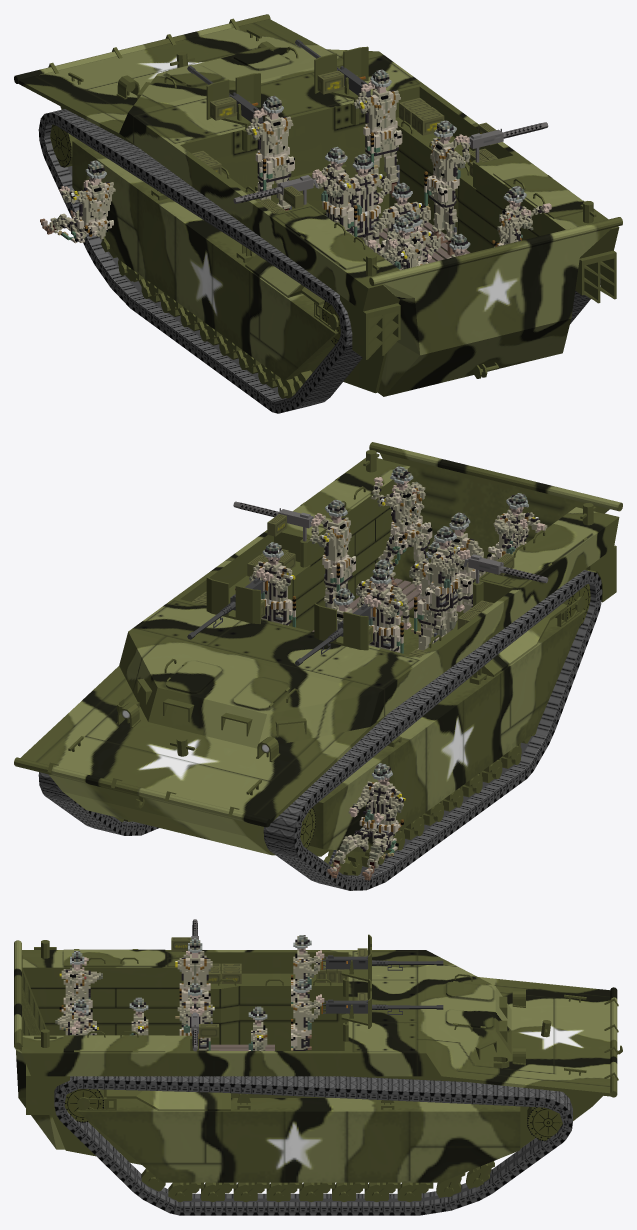
Rendered from lvt4.glb.
The picture shows the model from 3 angles, top to bottom: view 1: azimuth 30°, elevation 25°; view 2: azimuth 150°, elevation 25°; view 3: azimuth 270°, elevation 25°; orthographic projection. The views are drawn at different scales.
Parts seen in each view (by area): view 1: 00_chassis_lvt_4_chassis.mesh, 11_track_lvt_4_track.mesh, crew_soldier_SLOT_04_GUNNER, crew_soldier_SLOT_02_GUNNER, crew_soldier_SLOT_01_GUNNER, crew_soldier_SLOT_00_DRIVER, 06_turret_lvt_4_m2.mesh, 07_turret_lvt_4_m2.mesh, crew_soldier_SLOT_03_GUNNER, crew_soldier_SLOT_10_PASSENGER, crew_soldier_SLOT_06_PASSENGER, crew_soldier_SLOT_05_PASSENGER (+4 smaller); view 2: 00_chassis_lvt_4_chassis.mesh, 11_track_lvt_4_track.mesh, crew_soldier_SLOT_00_DRIVER, crew_soldier_SLOT_06_PASSENGER, crew_soldier_SLOT_03_GUNNER, crew_soldier_SLOT_04_GUNNER, 07_turret_lvt_4_m2.mesh, 06_turret_lvt_4_m2.mesh, crew_soldier_SLOT_01_GUNNER, crew_soldier_SLOT_02_GUNNER, crew_soldier_SLOT_05_PASSENGER, 10_track_lvt_4_track.mesh (+5 smaller); view 3: 00_chassis_lvt_4_chassis.mesh, 10_track_lvt_4_track.mesh, crew_soldier_SLOT_05_PASSENGER, crew_soldier_SLOT_03_GUNNER, 07_turret_lvt_4_m2.mesh, 06_turret_lvt_4_m2.mesh, crew_soldier_SLOT_02_GUNNER, crew_soldier_SLOT_04_GUNNER, crew_soldier_SLOT_01_GUNNER, crew_soldier_SLOT_06_PASSENGER, crew_soldier_SLOT_10_PASSENGER, crew_soldier_SLOT_08_PASSENGER (+1 smaller).
Boxes of the visible parts, left/top/right/bottom form: 00_chassis_lvt_4_chassis.mesh: left=14, top=14, right=622, bottom=398; 11_track_lvt_4_track.mesh: left=38, top=109, right=362, bottom=413; crew_soldier_SLOT_04_GUNNER: left=424, top=120, right=470, bottom=255; crew_soldier_SLOT_02_GUNNER: left=353, top=69, right=402, bottom=197; crew_soldier_SLOT_01_GUNNER: left=246, top=95, right=294, bottom=210; crew_soldier_SLOT_00_DRIVER: left=40, top=160, right=115, bottom=243; 06_turret_lvt_4_m2.mesh: left=187, top=65, right=266, bottom=125; 07_turret_lvt_4_m2.mesh: left=295, top=39, right=373, bottom=99; crew_soldier_SLOT_03_GUNNER: left=312, top=146, right=357, bottom=236; crew_soldier_SLOT_10_PASSENGER: left=348, top=153, right=391, bottom=250; crew_soldier_SLOT_06_PASSENGER: left=492, top=185, right=551, bottom=247; crew_soldier_SLOT_05_PASSENGER: left=368, top=216, right=422, bottom=269; 00_chassis_lvt_4_chassis.mesh: left=14, top=442, right=622, bottom=875; 11_track_lvt_4_track.mesh: left=263, top=570, right=602, bottom=890; crew_soldier_SLOT_00_DRIVER: left=327, top=763, right=405, bottom=880; crew_soldier_SLOT_06_PASSENGER: left=371, top=466, right=432, bottom=585; crew_soldier_SLOT_03_GUNNER: left=425, top=526, right=470, bottom=643; crew_soldier_SLOT_04_GUNNER: left=310, top=499, right=355, bottom=609; 07_turret_lvt_4_m2.mesh: left=187, top=577, right=267, bottom=639; 06_turret_lvt_4_m2.mesh: left=295, top=603, right=375, bottom=665; crew_soldier_SLOT_01_GUNNER: left=357, top=568, right=403, bottom=653; crew_soldier_SLOT_02_GUNNER: left=249, top=542, right=295, bottom=627; crew_soldier_SLOT_05_PASSENGER: left=487, top=493, right=547, bottom=560; 10_track_lvt_4_track.mesh: left=38, top=772, right=158, bottom=835; 00_chassis_lvt_4_chassis.mesh: left=14, top=940, right=622, bottom=1202; 10_track_lvt_4_track.mesh: left=54, top=1076, right=572, bottom=1215; crew_soldier_SLOT_05_PASSENGER: left=59, top=951, right=102, bottom=1035; crew_soldier_SLOT_03_GUNNER: left=175, top=938, right=212, bottom=1028; 07_turret_lvt_4_m2.mesh: left=321, top=979, right=443, bottom=1028; 06_turret_lvt_4_m2.mesh: left=321, top=934, right=443, bottom=981; crew_soldier_SLOT_02_GUNNER: left=291, top=979, right=324, bottom=1050; crew_soldier_SLOT_04_GUNNER: left=177, top=983, right=214, bottom=1050; crew_soldier_SLOT_01_GUNNER: left=291, top=935, right=324, bottom=1049; crew_soldier_SLOT_06_PASSENGER: left=55, top=999, right=98, bottom=1035; crew_soldier_SLOT_10_PASSENGER: left=248, top=1006, right=267, bottom=1050; crew_soldier_SLOT_08_PASSENGER: left=129, top=997, right=148, bottom=1035.
Bounding box in the file's own units: 4.75 × 3.41 × 9.19.
39 materials, 3 textured.
